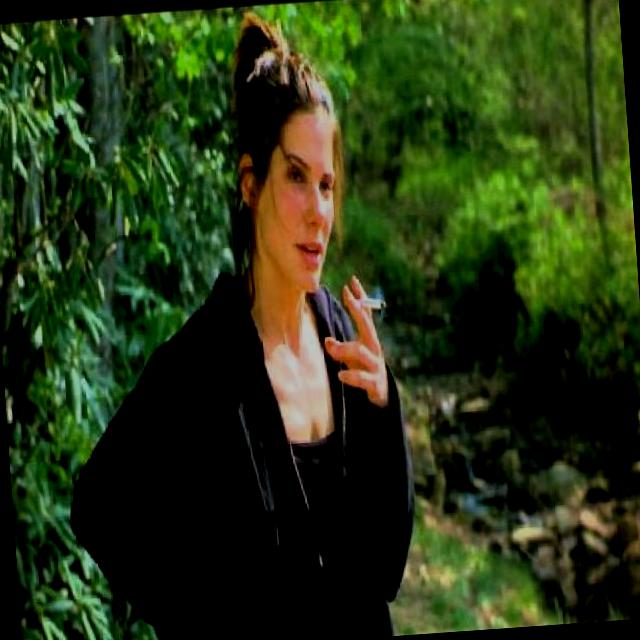smoke: (341, 292, 388, 316)
